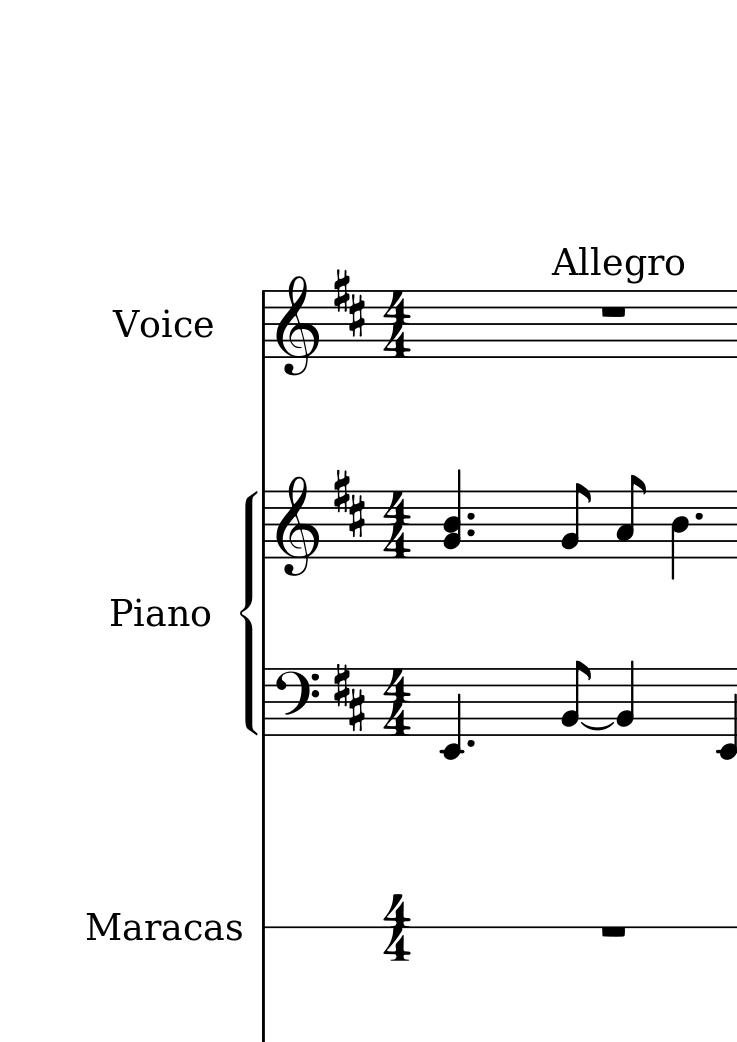4: (381, 702, 413, 737), (382, 525, 415, 558), (381, 490, 412, 525), (382, 666, 413, 701), (381, 324, 414, 356), (382, 290, 413, 324)
4_-2: (439, 666, 465, 762)
4_2: (615, 659, 637, 738)
4_4: (669, 489, 690, 583)
8_2: (559, 659, 591, 736), (560, 481, 591, 559)
8_3: (614, 473, 647, 560)
Brace: (239, 492, 258, 735)
D_S: (329, 266, 366, 337), (330, 467, 368, 534)
E_S: (331, 662, 368, 733)
Fclef: (274, 666, 320, 738)
Gclef: (276, 273, 319, 378), (276, 474, 319, 577)
Pno: (108, 596, 212, 632)
Rests1: (596, 923, 629, 945), (596, 301, 629, 320)
Single_barline: (256, 289, 272, 359), (258, 490, 273, 557), (258, 668, 271, 734)
Slur: (382, 927, 413, 963), (385, 891, 412, 925), (577, 722, 617, 731)
TimeSig: (380, 492, 415, 558), (382, 290, 414, 358), (382, 667, 414, 735), (383, 895, 412, 965)
dot: (463, 506, 477, 523), (692, 509, 706, 523), (463, 526, 478, 538), (464, 737, 476, 750)
